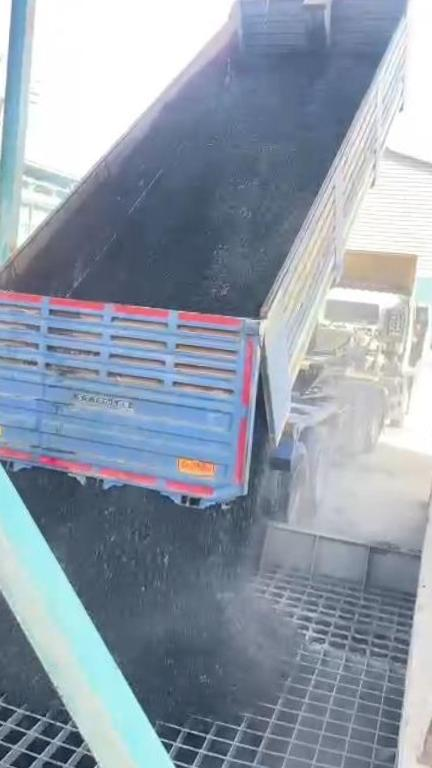gravel: (77, 50, 373, 316), (18, 463, 291, 716), (0, 569, 49, 706)
